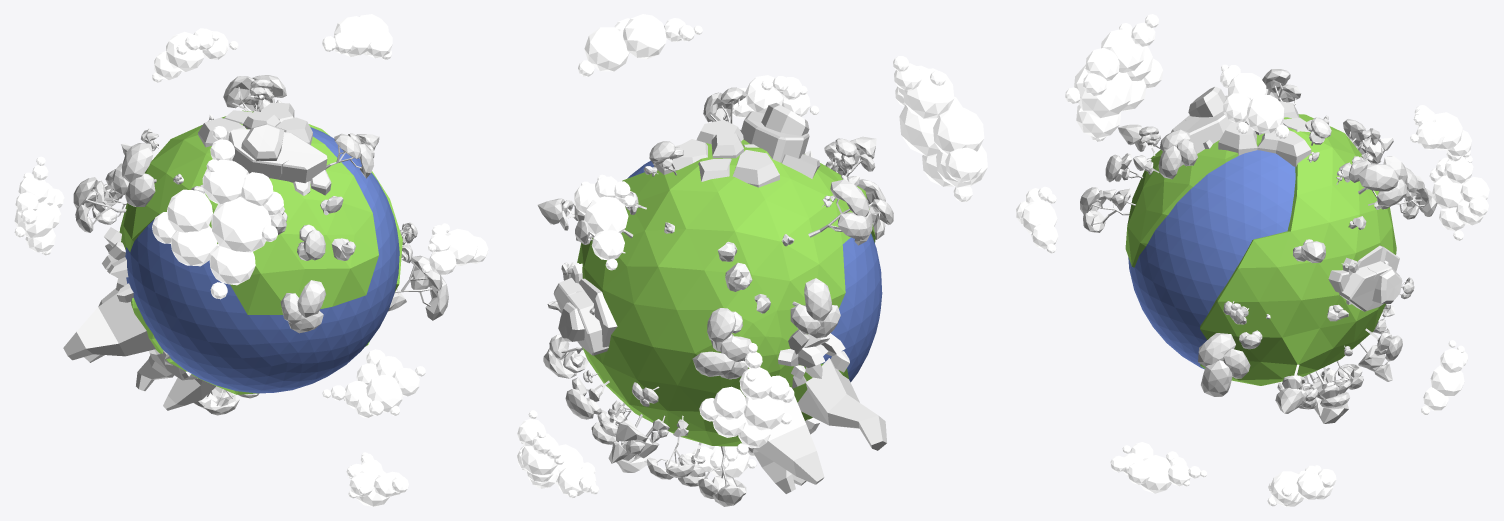
File: start_planet.gltf
3 views of the same model, side by side, from view 1: azimuth 30°, elevation 25°; view 2: azimuth 150°, elevation 25°; view 3: azimuth 270°, elevation 25° (orthographic). The views are drawn at different scales.
Parts seen in each view (by area): view 1: sea, ground, Icosphere.016 - copy.003, Rock Type1 01 mesh.001, Rock Type3 02 mesh, Icosphere.016 - copy.002, Icosphere.016 - copy.004, Icosphere.015 - copy.001, Icosphere.017 - copy.003, Rock Type4 02 mesh, Icosphere.015 - copy.003, Icosphere.002 - copy.002 (+11 smaller); view 2: ground, Icosphere.016 - copy.003, Rock Type3 02 mesh, Icosphere.016 - copy.004, sea, Icosphere.017 - copy.003, Rock Type4 02 mesh, Rock Type1 01 mesh, Icosphere.015 - copy.001, Rock Type1 01 mesh.001, Icosphere.015 - copy.003, Icosphere.015 - copy.005 (+23 smaller); view 3: ground, sea, Icosphere.016 - copy.003, Icosphere.016 - copy.004, Icosphere.017 - copy.003, Rock Type1 01 mesh, Icosphere.002 - copy.002, Rock Type4 02 mesh, Tree Type3 03 Model - copy.008, Icosphere.015 - copy.001, Rock Type1 01 mesh.001, Icosphere.016 - copy.002 (+15 smaller).
Boxes of the visible parts, x1=… form: sea: x1=125, y1=127, x2=399, y2=393; ground: x1=119, y1=110, x2=402, y2=394; Icosphere.016 - copy.003: x1=152, y1=126, x2=283, y2=299; Rock Type1 01 mesh.001: x1=228, y1=123, x2=331, y2=195; Rock Type3 02 mesh: x1=63, y1=283, x2=190, y2=380; Icosphere.016 - copy.002: x1=322, y1=349, x2=425, y2=417; Icosphere.016 - copy.004: x1=14, y1=156, x2=64, y2=255; Icosphere.015 - copy.001: x1=152, y1=28, x2=238, y2=82; Icosphere.017 - copy.003: x1=322, y1=14, x2=392, y2=59; Rock Type4 02 mesh: x1=198, y1=102, x2=312, y2=147; Icosphere.015 - copy.003: x1=422, y1=223, x2=488, y2=275; Icosphere.002 - copy.002: x1=346, y1=452, x2=408, y2=506; ground: x1=577, y1=139, x2=875, y2=446; Icosphere.016 - copy.003: x1=893, y1=56, x2=987, y2=201; Rock Type3 02 mesh: x1=745, y1=351, x2=886, y2=484; Icosphere.016 - copy.004: x1=699, y1=343, x2=794, y2=455; sea: x1=627, y1=160, x2=882, y2=382; Icosphere.017 - copy.003: x1=578, y1=14, x2=702, y2=76; Rock Type4 02 mesh: x1=654, y1=120, x2=779, y2=187; Rock Type1 01 mesh: x1=553, y1=263, x2=617, y2=355; Icosphere.015 - copy.001: x1=574, y1=174, x2=634, y2=270; Rock Type1 01 mesh.001: x1=740, y1=103, x2=820, y2=178; Icosphere.015 - copy.003: x1=732, y1=75, x2=819, y2=118; Icosphere.015 - copy.005: x1=517, y1=410, x2=564, y2=482; ground: x1=1125, y1=114, x2=1396, y2=385; sea: x1=1128, y1=150, x2=1295, y2=369; Icosphere.016 - copy.003: x1=1065, y1=14, x2=1163, y2=141; Icosphere.016 - copy.004: x1=1429, y1=153, x2=1489, y2=240; Icosphere.017 - copy.003: x1=1220, y1=64, x2=1288, y2=138; Rock Type1 01 mesh: x1=1328, y1=245, x2=1402, y2=311; Icosphere.002 - copy.002: x1=1110, y1=442, x2=1206, y2=493; Rock Type4 02 mesh: x1=1218, y1=101, x2=1311, y2=166; Tree Type3 03 Model - copy.008: x1=1198, y1=333, x2=1250, y2=396; Icosphere.015 - copy.001: x1=1410, y1=105, x2=1471, y2=157; Rock Type1 01 mesh.001: x1=1171, y1=86, x2=1234, y2=167; Icosphere.016 - copy.002: x1=1267, y1=465, x2=1336, y2=506.
Size of the model in its own units: 2.73 by 3.37 by 3.36.
